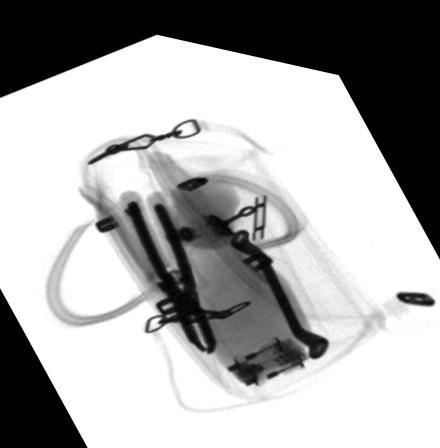Pliers: (124, 194, 217, 345)
Wrench: (230, 218, 327, 346)
